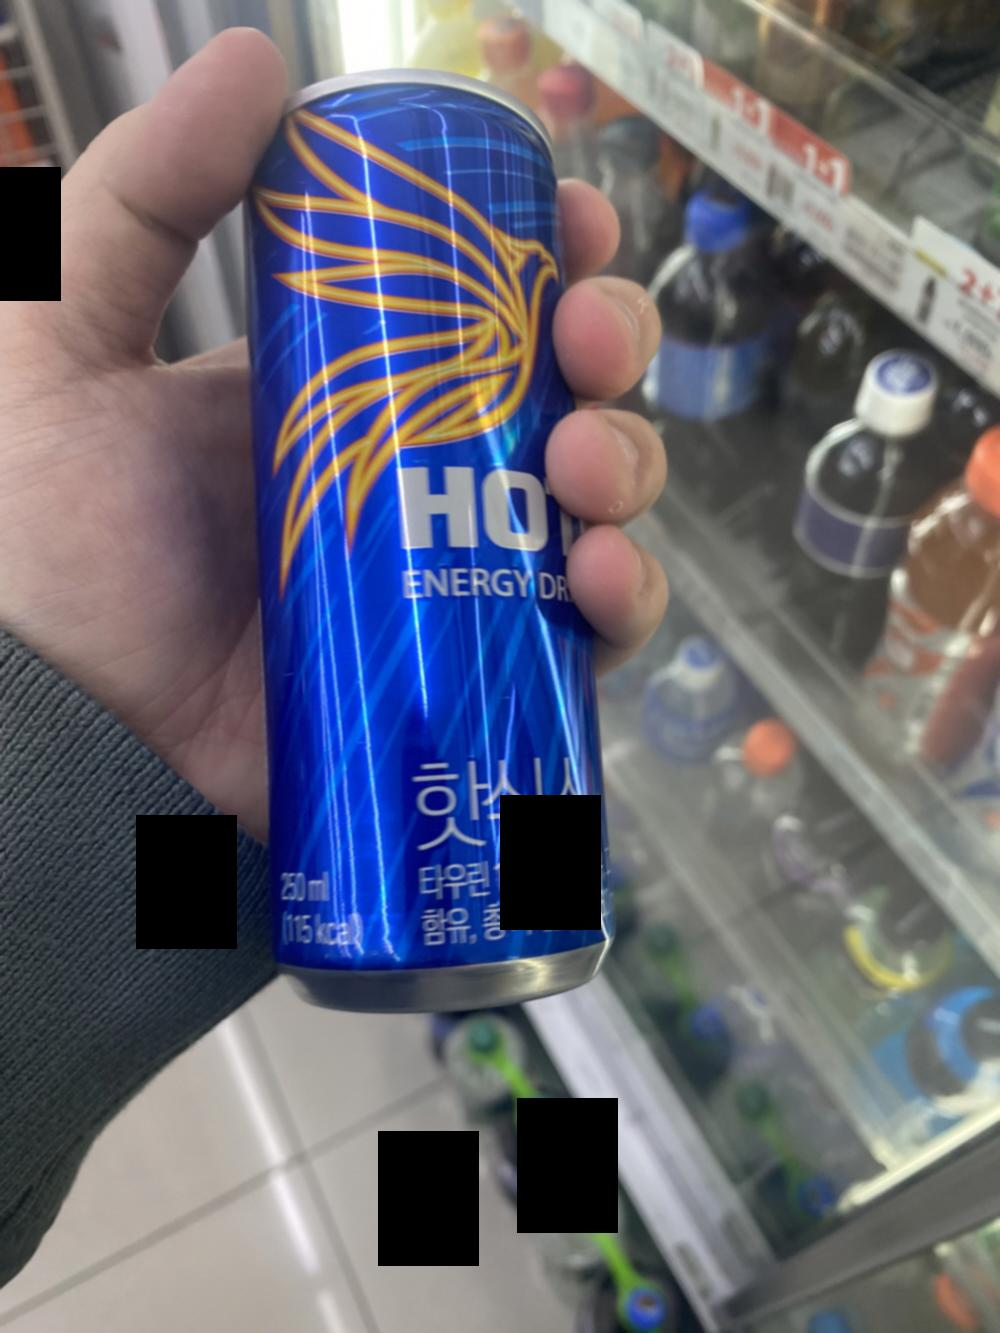hotsix_org: (238, 71, 560, 981)
